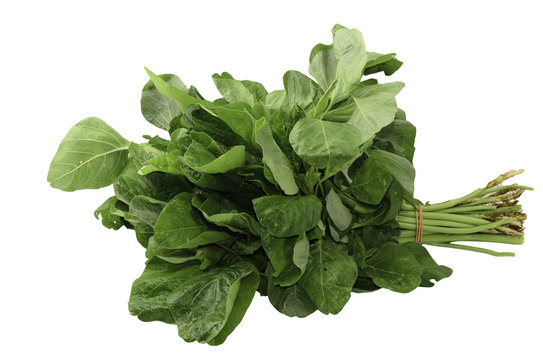Bayam: (42, 61, 530, 335)
